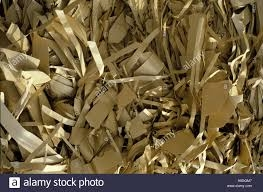paper: (67, 127, 209, 174), (176, 4, 261, 79), (46, 5, 105, 95), (3, 93, 68, 174), (99, 30, 175, 90), (6, 23, 60, 99), (80, 82, 153, 138), (194, 75, 247, 140)
